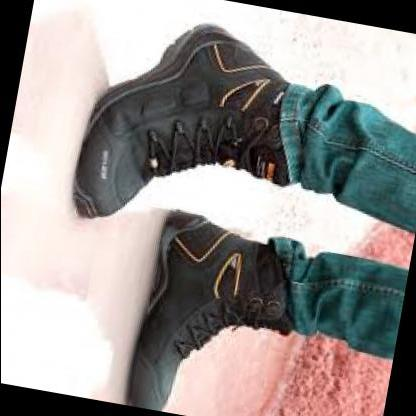safety-shoe: (56, 7, 307, 247), (105, 197, 316, 415)
